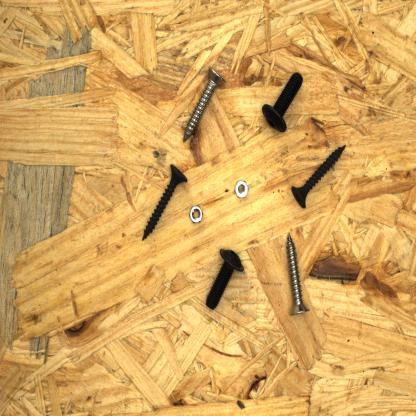screw: (288, 141, 349, 214), (139, 158, 190, 245), (180, 63, 228, 146), (201, 244, 248, 315), (259, 67, 306, 136), (281, 228, 313, 319)
